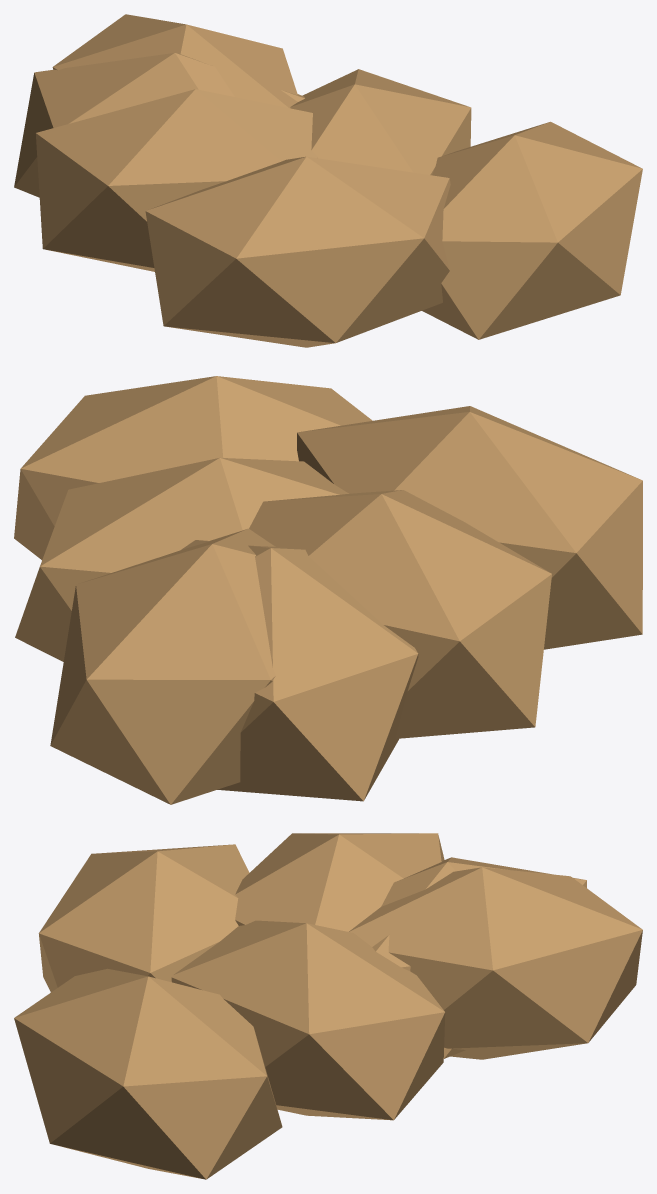
Rendered from item_date.glb.
3 renders of one model, top to bottom at view 1: azimuth 30°, elevation 25°; view 2: azimuth 150°, elevation 25°; view 3: azimuth 270°, elevation 25°, orthographic. The views are drawn at different scales.
Visible parts, largest first — view 1: item_date; view 2: item_date; view 3: item_date.
Boxes of the visible parts, box(x1,y1,x2,y2) form: item_date: box(14, 14, 642, 347); item_date: box(14, 376, 642, 804); item_date: box(14, 833, 642, 1179).
Bounding box in the file's own units: 0.3229 × 0.1398 × 0.3553.
